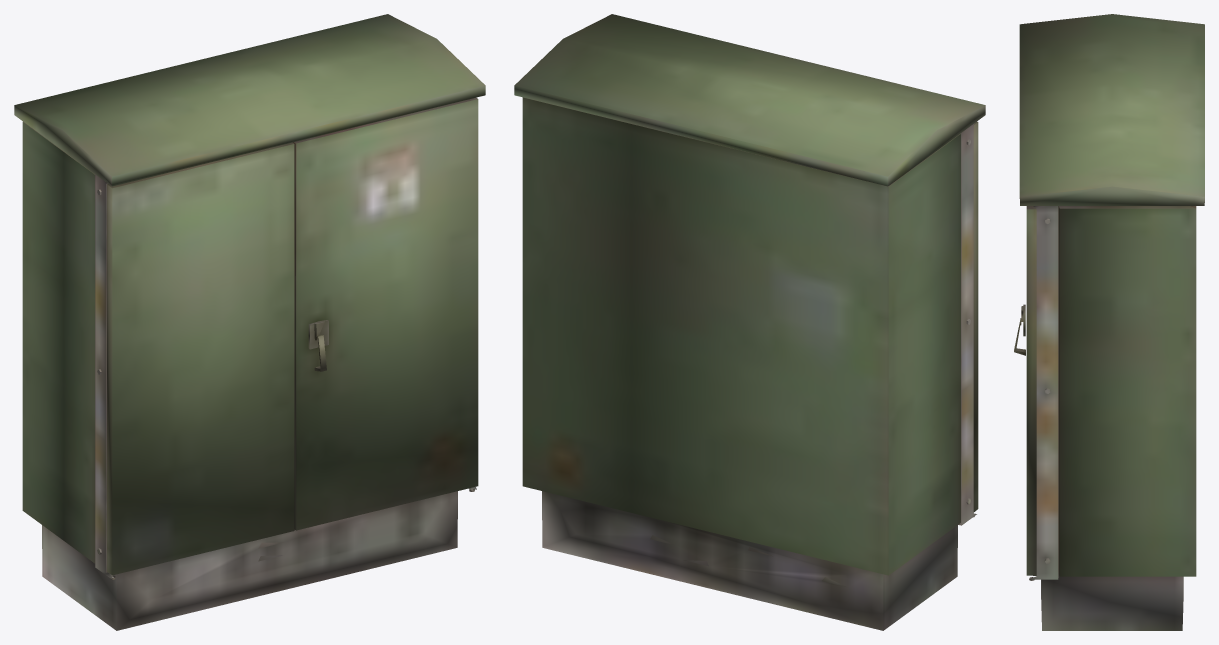
Rendered from armoire_electrique_lod2.glb.
3 renders of one model, left to right at view 1: azimuth 30°, elevation 25°; view 2: azimuth 150°, elevation 25°; view 3: azimuth 270°, elevation 25°, orthographic. The views are drawn at different scales.
Parts seen in each view (by area): view 1: utility_box_02; view 2: utility_box_02; view 3: utility_box_02.
Boxes of the visible parts, box(x1,y1,x2,y2) form: utility_box_02: box(14, 14, 485, 630); utility_box_02: box(514, 14, 985, 630); utility_box_02: box(1014, 14, 1204, 630).
Size of the model in its own units: 0.9165 by 1.12 by 0.4277.
Materials: 1 (1 with a texture image).
